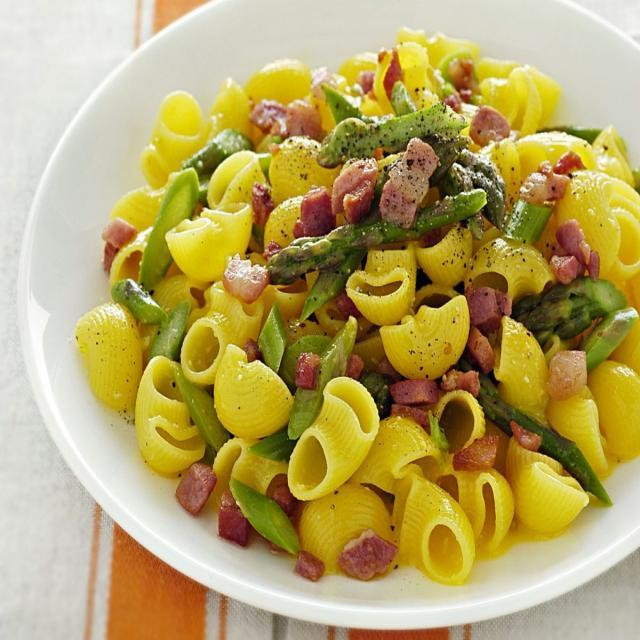Pasta with carbonara sauce: (58, 32, 640, 613)
